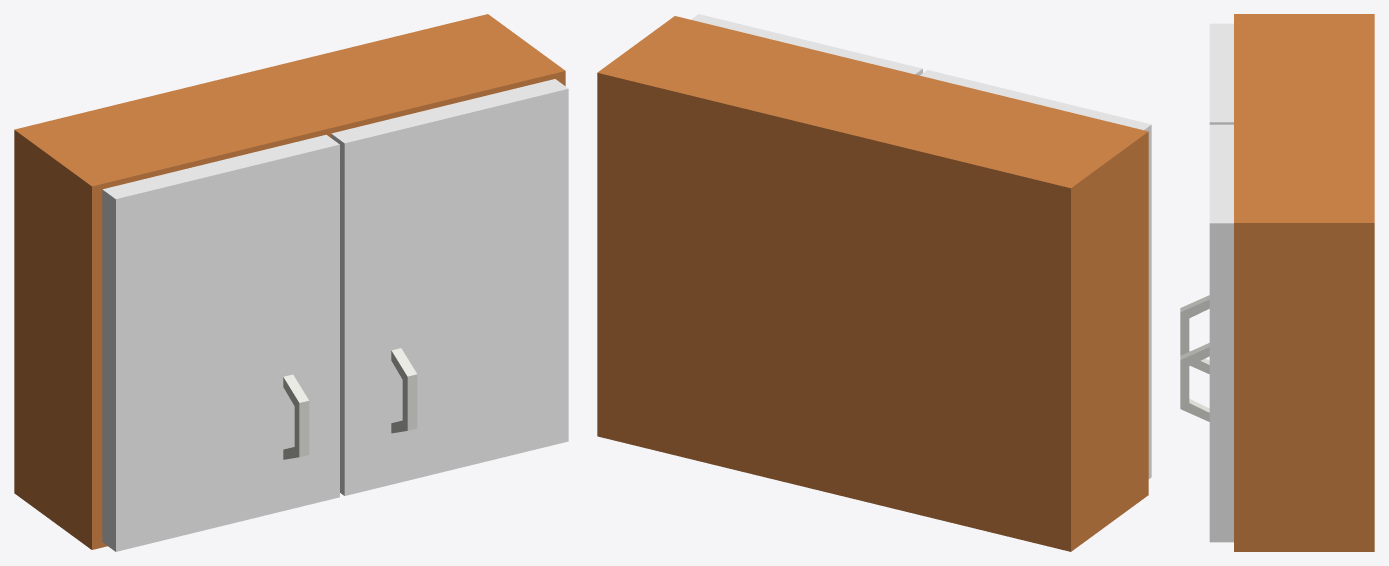
File: Cupboard_1_1.fbx
3 renders of one model, left to right at view 1: azimuth 30°, elevation 25°; view 2: azimuth 150°, elevation 25°; view 3: azimuth 270°, elevation 25°, orthographic. The views are drawn at different scales.
Visible parts, largest first — view 1: polySurface1492; view 2: polySurface1492; view 3: polySurface1492.
Part boxes in pixels (box(x1,y1,x2,y2)): polySurface1492: box(14, 14, 568, 551); polySurface1492: box(597, 14, 1151, 551); polySurface1492: box(1180, 14, 1374, 551).
Size of the model in its own units: 1.23 by 0.9 by 0.4813.
Materials: 1 (1 with a texture image).
